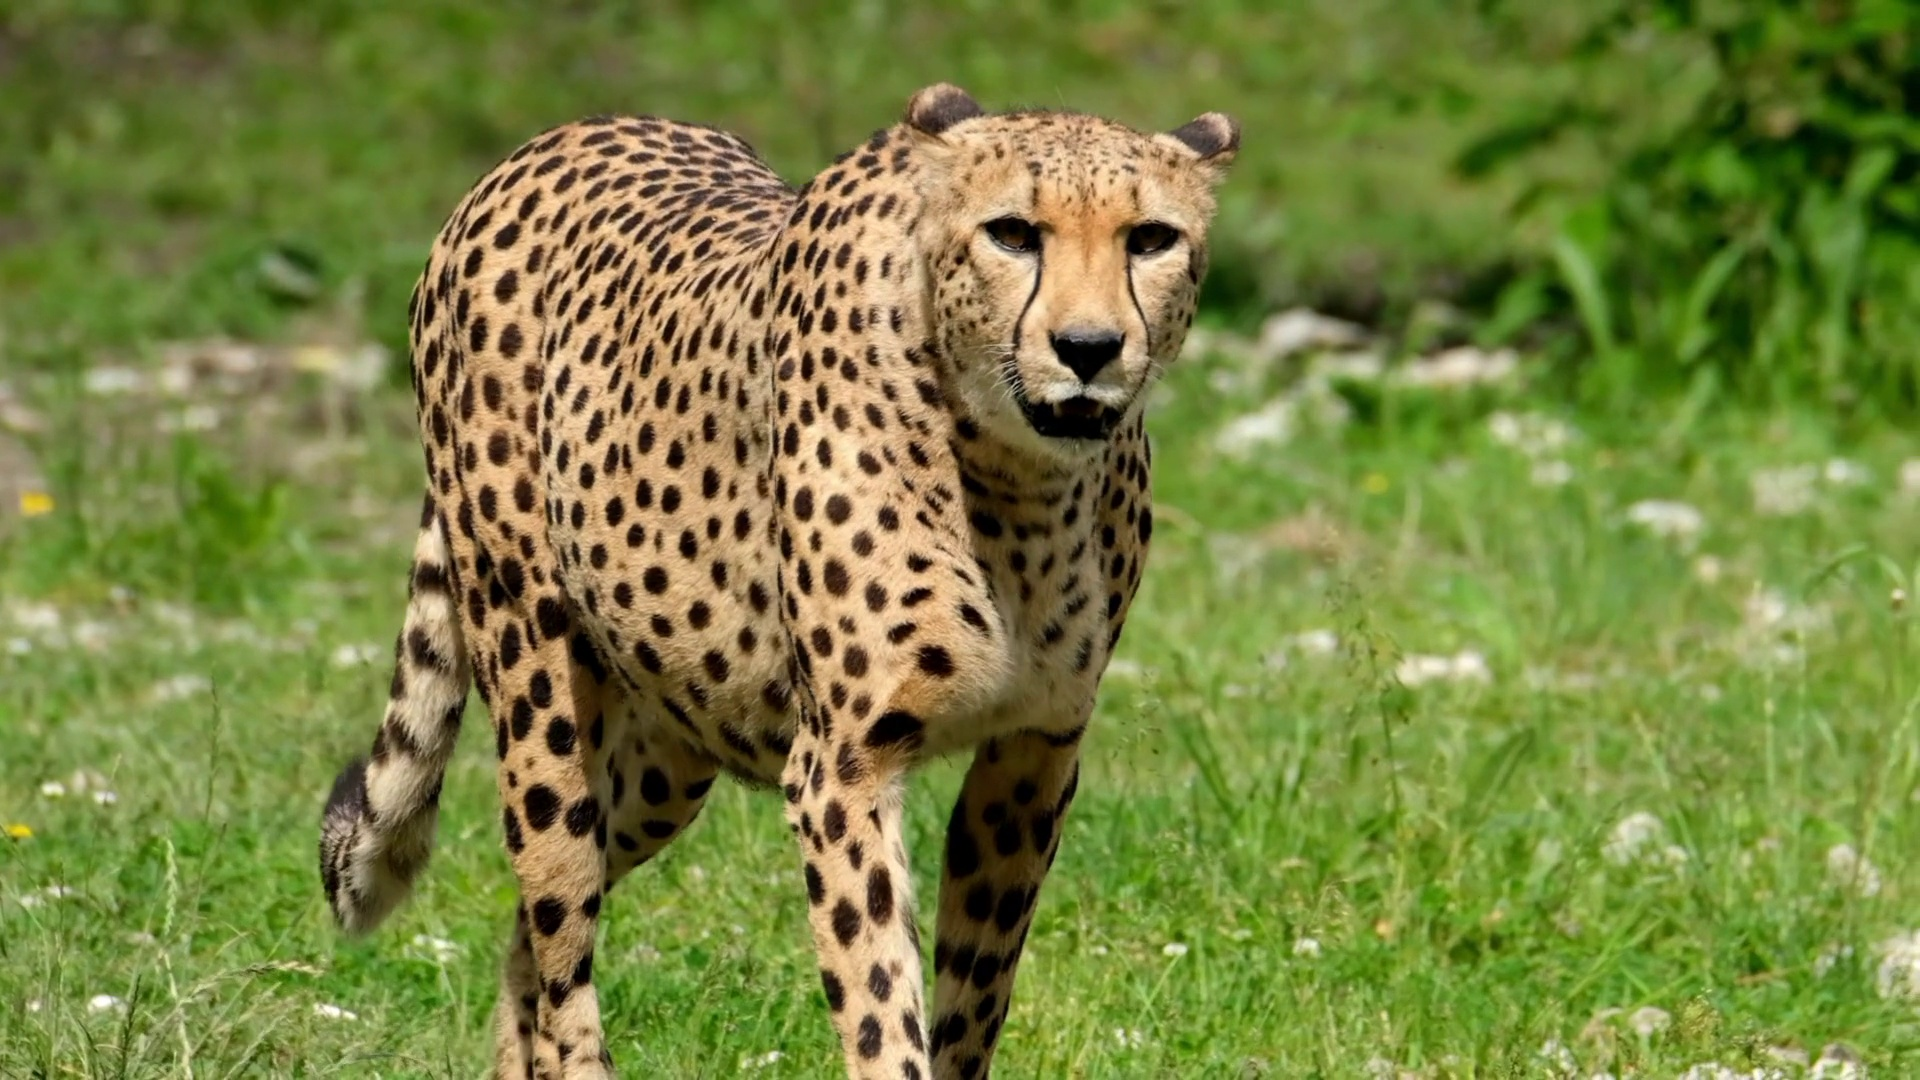Cheetah: (319, 71, 1245, 1080)
